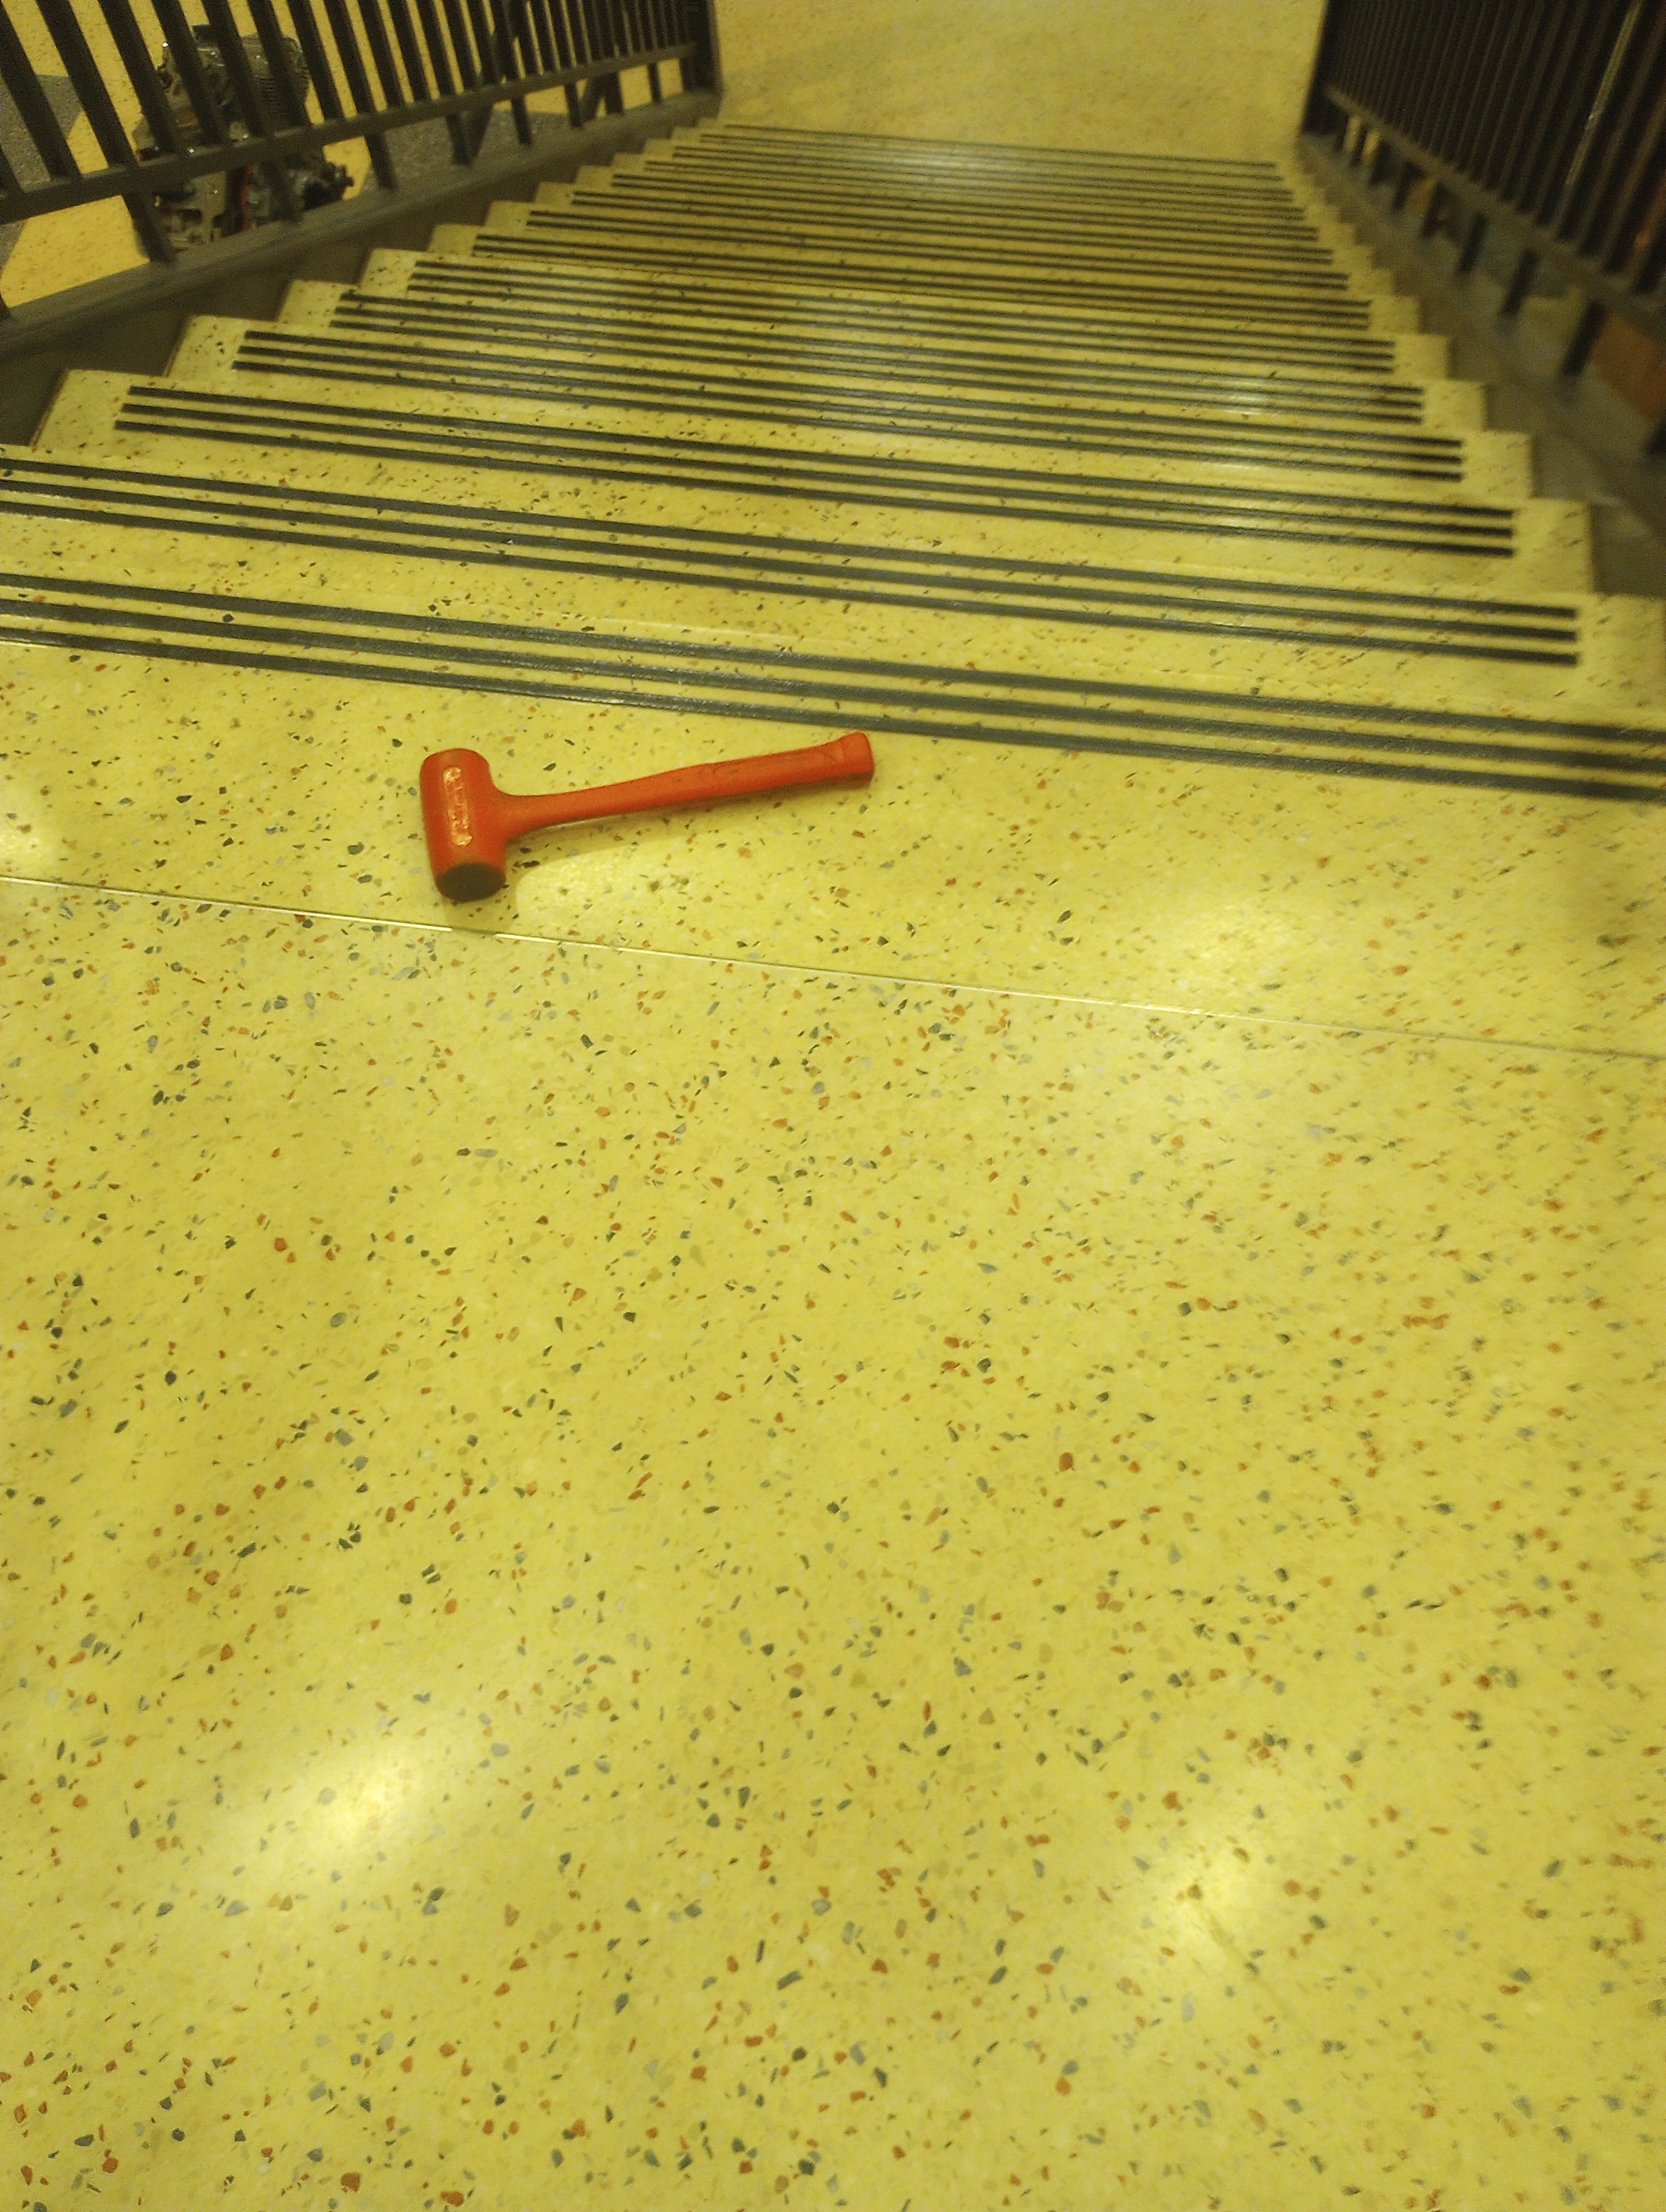bottle: (415, 717, 877, 918)
